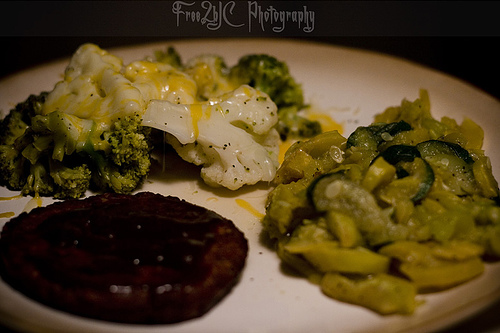cauliflower: (145, 85, 282, 192), (43, 41, 128, 111)
